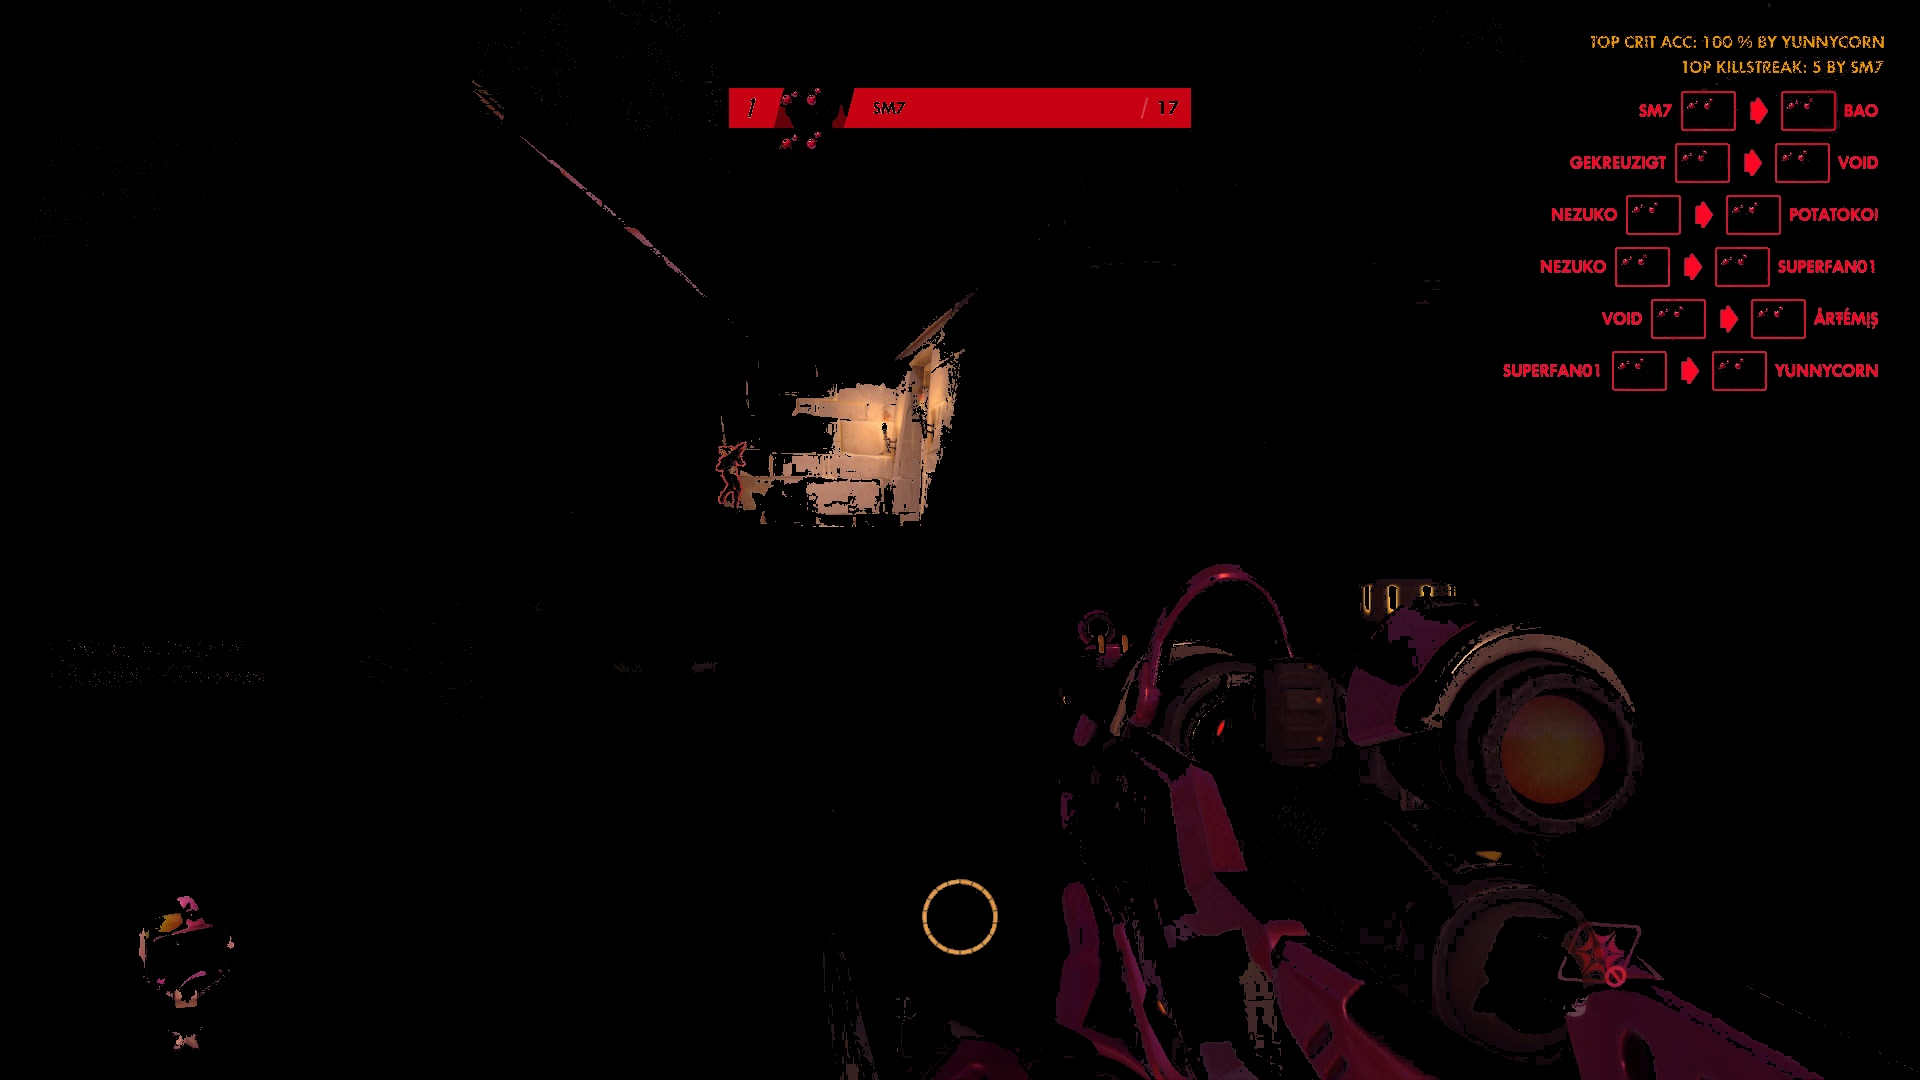widowmaker: (713, 439, 746, 517)
